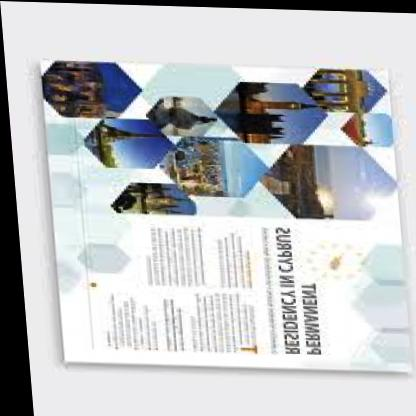Paper: (12, 34, 410, 390)
